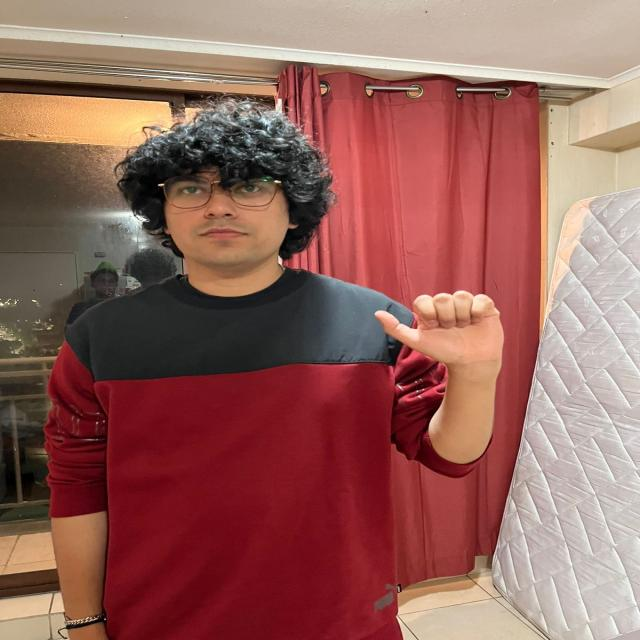E: (371, 283, 509, 368)
